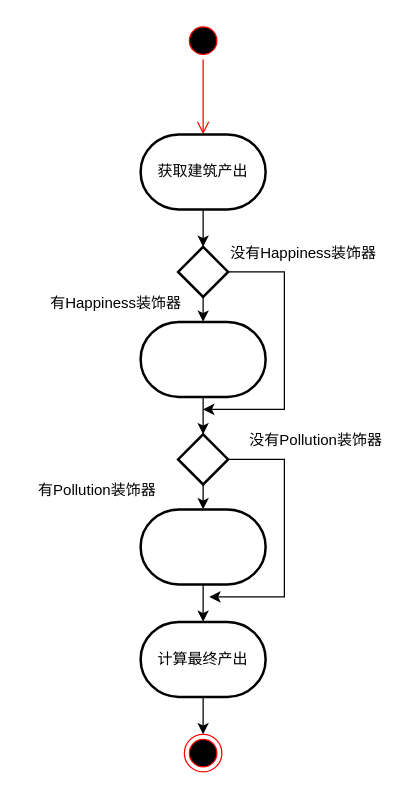
The diagram is 418 pixels wide and 794 high, and some of its shapes have lost their labels. The box of each missing label's shape, as (x1, y1, x2, y2) in pixels:
额外计算 Pollution减益: (139, 508, 266, 585)
额外计算Happiness增益: (139, 320, 266, 398)
